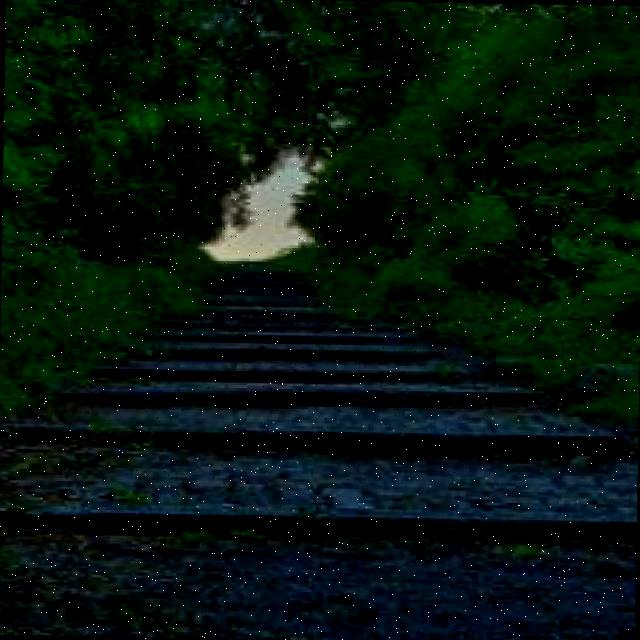stairs: (0, 259, 638, 544)
